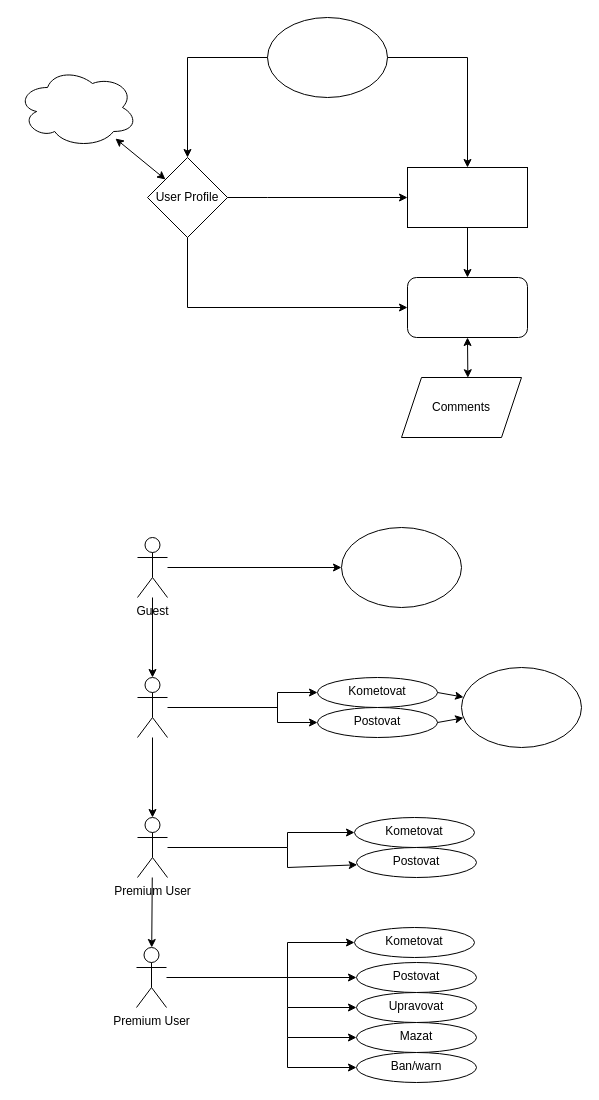
This 599x1100 diagram has some shape labels left out. The box of each missing label's shape, as (x1, y1, x2, y2) in pixels:
Boards: (406, 166, 528, 228)
Denní limit: (460, 666, 582, 748)
Forum: (266, 16, 388, 98)
GitHub: (16, 66, 138, 148)
náhled: (340, 526, 462, 608)
Posts: (406, 276, 528, 338)
Registered User: (136, 676, 168, 738)
